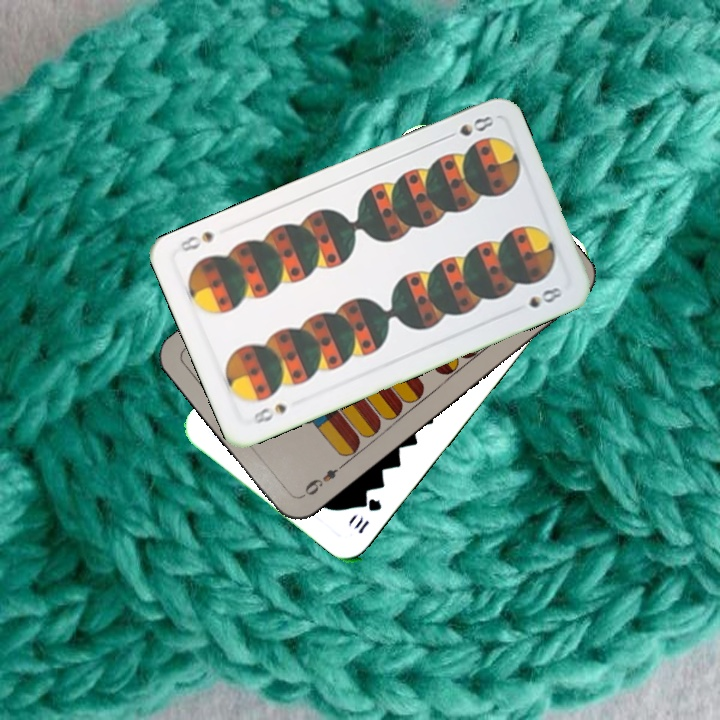E9: (297, 459, 348, 500)
G10: (348, 494, 385, 537)
S8: (440, 111, 496, 143), (247, 399, 290, 427)
